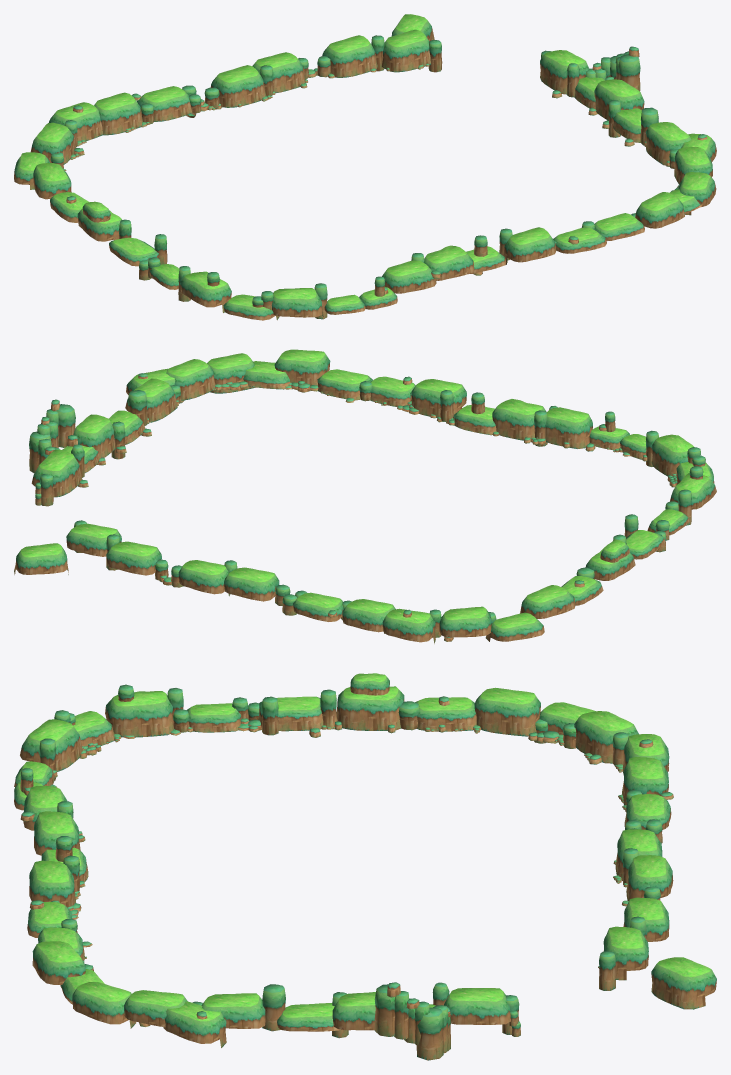
File: CBS_Ground_rock_BIG.FBX
The picture shows the model from 3 angles, top to bottom: view 1: azimuth 30°, elevation 25°; view 2: azimuth 150°, elevation 25°; view 3: azimuth 270°, elevation 25°; orthographic projection. The views are drawn at different scales.
Visible parts, largest first — view 1: CBS_Ground_rock_BIG; view 2: CBS_Ground_rock_BIG; view 3: CBS_Ground_rock_BIG.
Boxes of the visible parts, x1,y1,x2,y2 form: CBS_Ground_rock_BIG: [14, 14, 716, 320]; CBS_Ground_rock_BIG: [14, 349, 716, 643]; CBS_Ground_rock_BIG: [14, 673, 716, 1060].
Size of the model in its own units: 11984 by 1289 by 10442.
